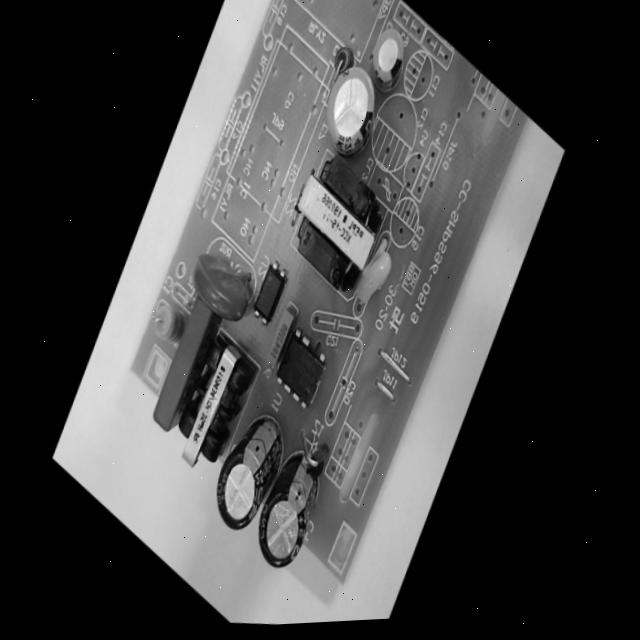Cap1: (308, 44, 398, 178)
Cap2: (358, 8, 424, 108)
Cap3: (197, 387, 295, 555)
Cap4: (239, 423, 340, 594)
MOSFET: (264, 312, 338, 424)
Mov: (175, 220, 268, 346)
Resistor: (147, 286, 193, 355)
Transformer: (269, 118, 405, 317), (157, 308, 268, 499)
